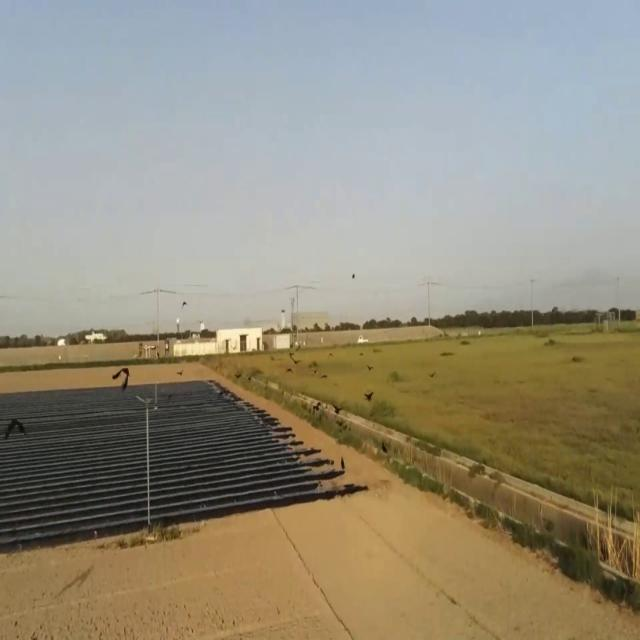bird: (4, 413, 22, 440), (120, 366, 130, 391), (378, 438, 389, 454), (365, 386, 373, 404), (332, 402, 343, 414), (181, 298, 188, 310), (341, 453, 345, 472)
